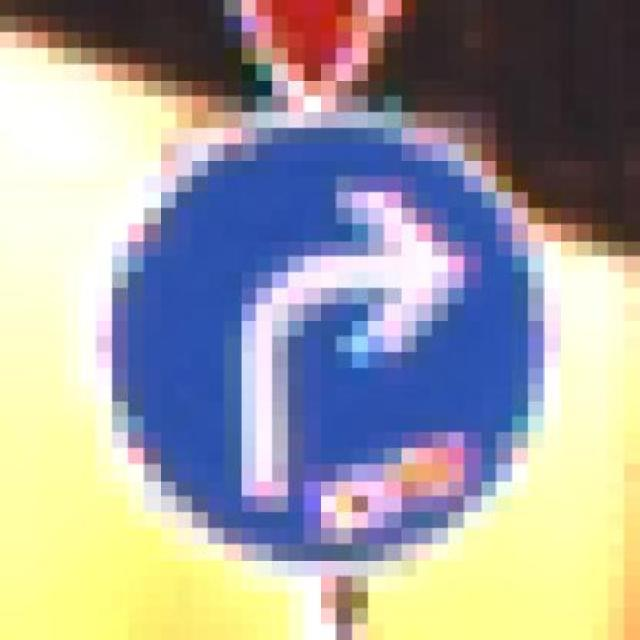Turn right ahead: (49, 80, 576, 560)
